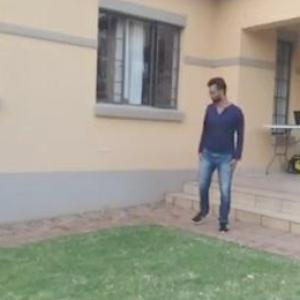follow: (194, 67, 243, 242)
